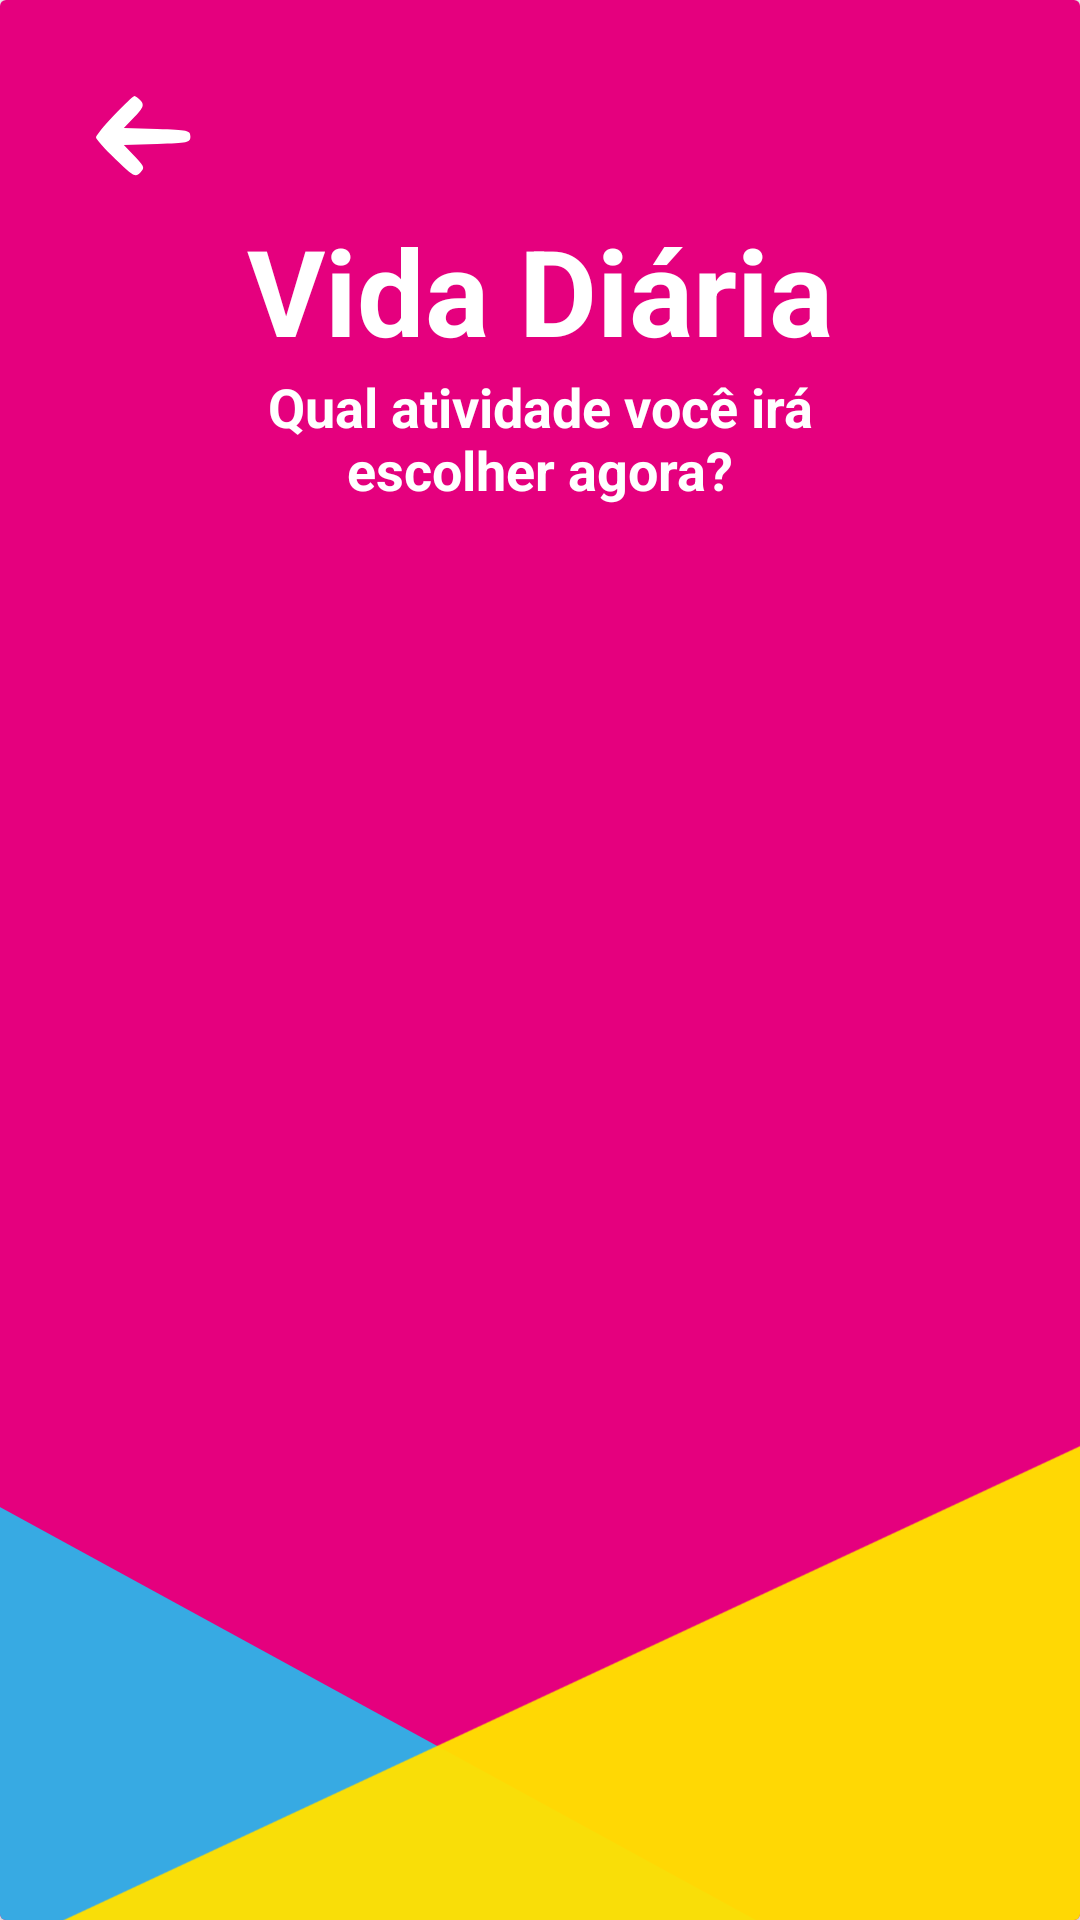

Screen size 1080×1920. Icon name, then its center in pixels as [x,y]:
arrow: [143,136]
